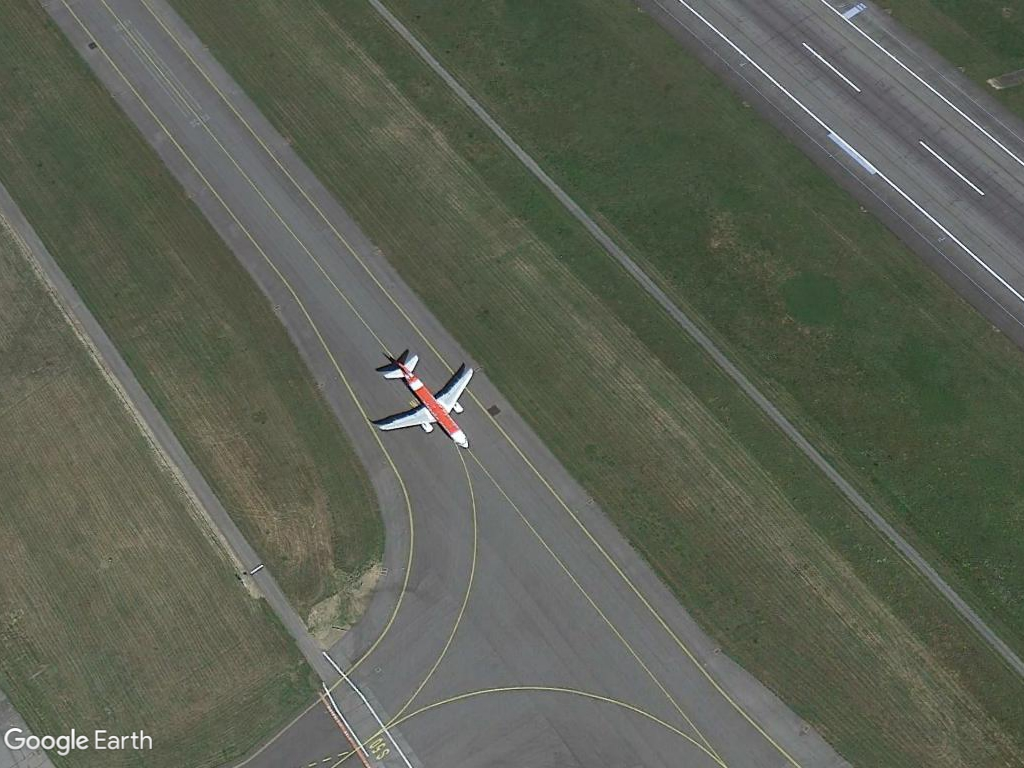airliner: (362, 352, 479, 453)
